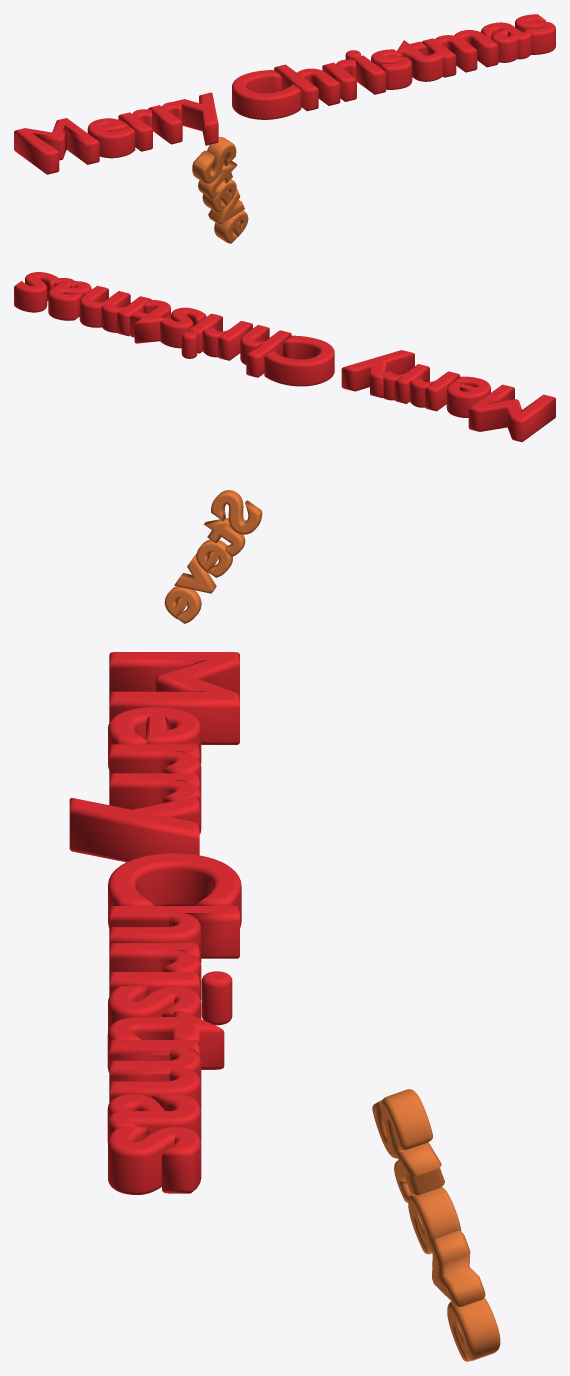
Rendered from Steve.glb.
3 views of the same model, one above another, from view 1: azimuth 30°, elevation 25°; view 2: azimuth 150°, elevation 25°; view 3: azimuth 270°, elevation 25° (orthographic). The views are drawn at different scales.
Parts seen in each view (by area): view 1: Text, Text.001; view 2: Text, Text.001; view 3: Text, Text.001.
Part boxes in pixels (x1,y1,x2,y2): Text: (14, 14, 555, 174); Text.001: (192, 137, 248, 243); Text: (14, 272, 555, 442); Text.001: (164, 490, 262, 623); Text: (69, 652, 241, 1194); Text.001: (372, 1089, 500, 1361).
Bounding box in the file's own units: 9.52 × 3.94 × 3.46.
